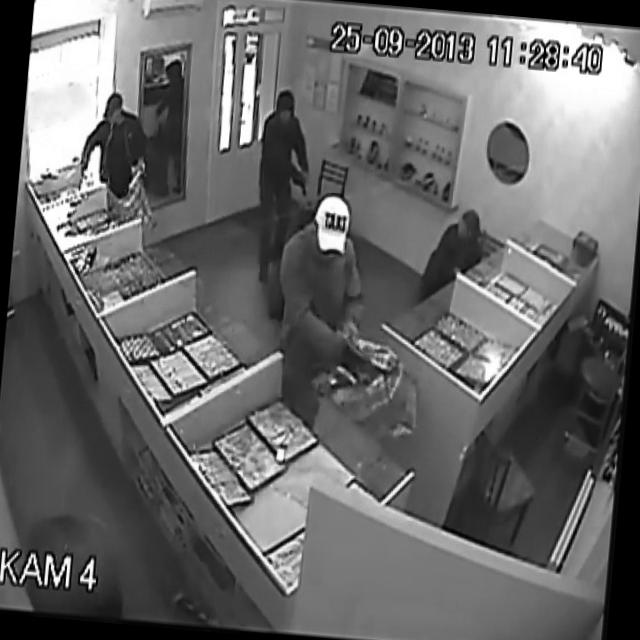gun: (292, 165, 312, 198)
person: (260, 186, 372, 398), (76, 84, 151, 200), (422, 205, 483, 292)
person with a gun: (240, 89, 310, 288)
